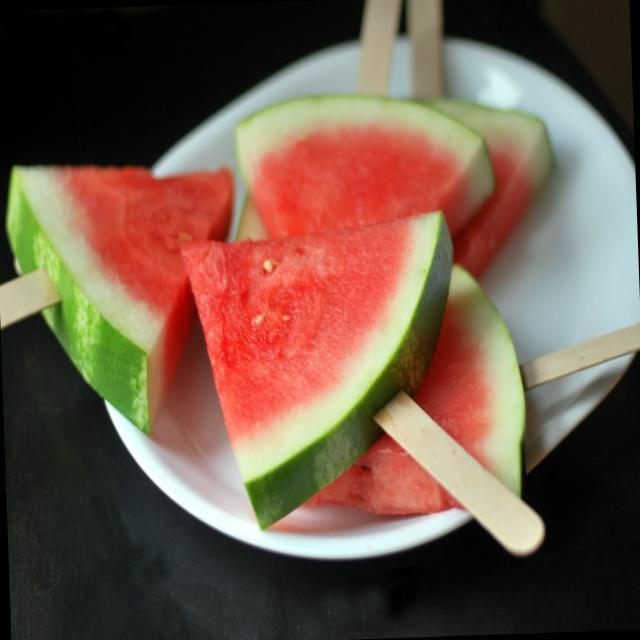WATERMELON: (178, 210, 462, 532), (4, 148, 244, 434), (346, 225, 530, 516), (229, 88, 501, 242), (388, 82, 560, 245)
